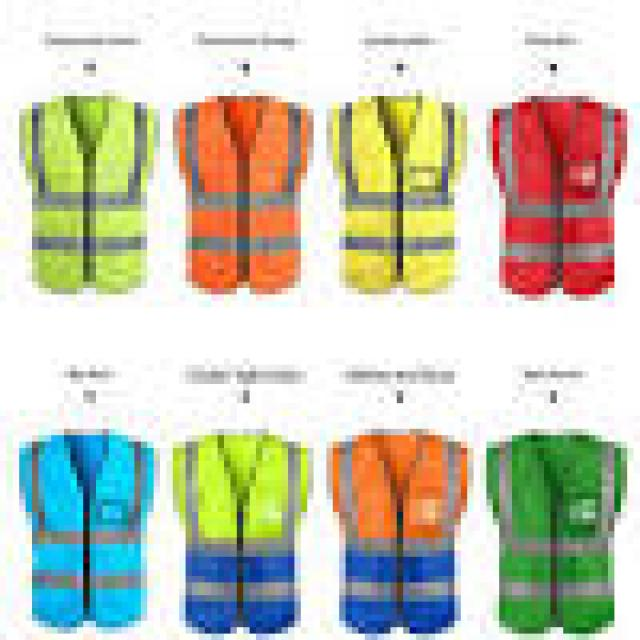Reflective-Jacket: (0, 83, 173, 314), (160, 90, 326, 314), (160, 422, 326, 640), (314, 90, 480, 307), (323, 430, 479, 634), (480, 422, 628, 637), (10, 420, 158, 632), (490, 89, 634, 305)
